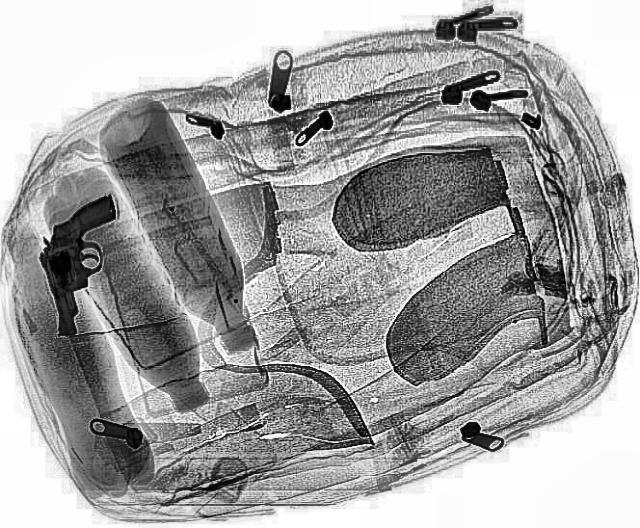Gun: (21, 192, 149, 342)
